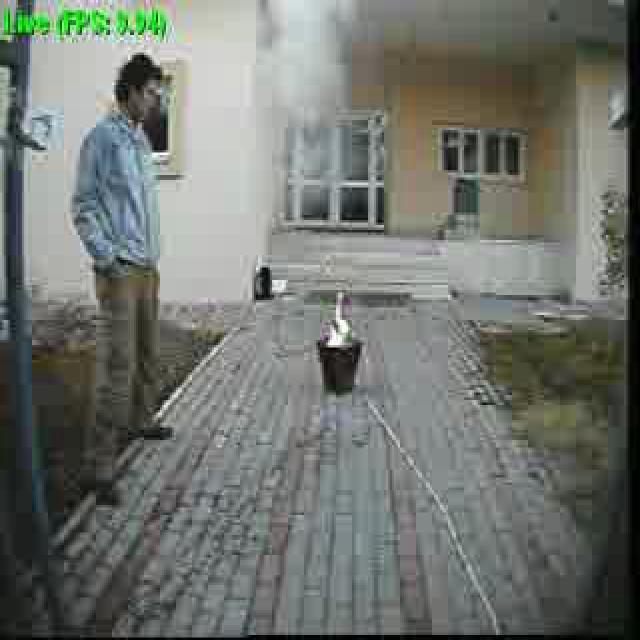Smoke: (270, 4, 344, 130)
